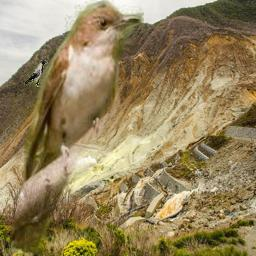Crow: (24, 60, 48, 87)
Cuckoo: (11, 0, 144, 256)
